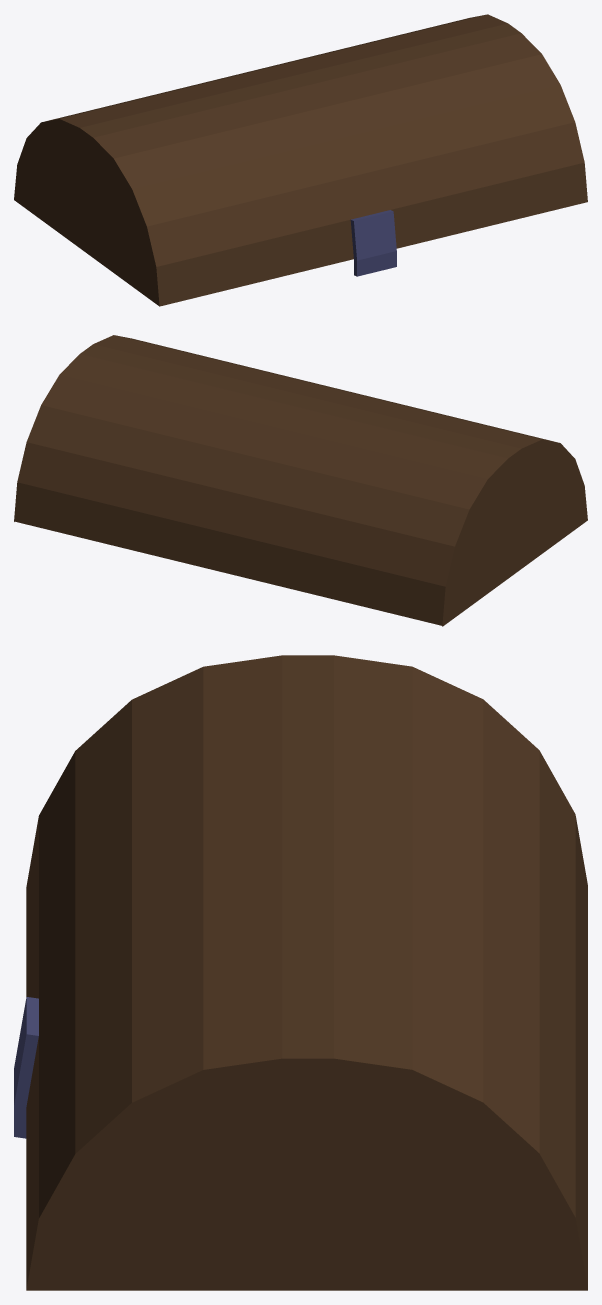
The model's file is 1tapa-cofre.glb.
3 views of the same model, one above another, from view 1: azimuth 30°, elevation 25°; view 2: azimuth 150°, elevation 25°; view 3: azimuth 270°, elevation 25° (orthographic). The views are drawn at different scales.
Visible parts, largest first — view 1: Plane.004; view 2: Plane.004; view 3: Plane.004.
Part boxes in pixels (x1,y1,x2,y2): Plane.004: (14, 14, 587, 306); Plane.004: (14, 335, 587, 626); Plane.004: (14, 655, 587, 1290).
Size of the model in its own units: 0.6315 by 0.192 by 0.3799.
